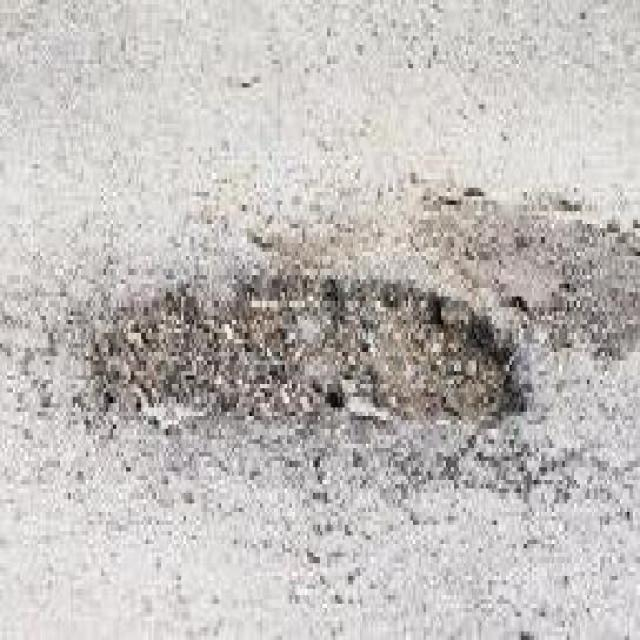jalan_berlubang: (96, 284, 530, 450)
